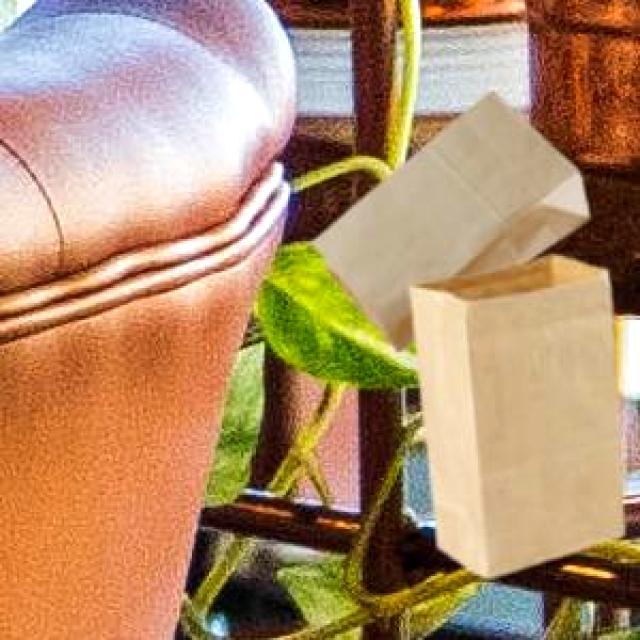Paper_Bag: (310, 88, 586, 349), (406, 253, 622, 575)
